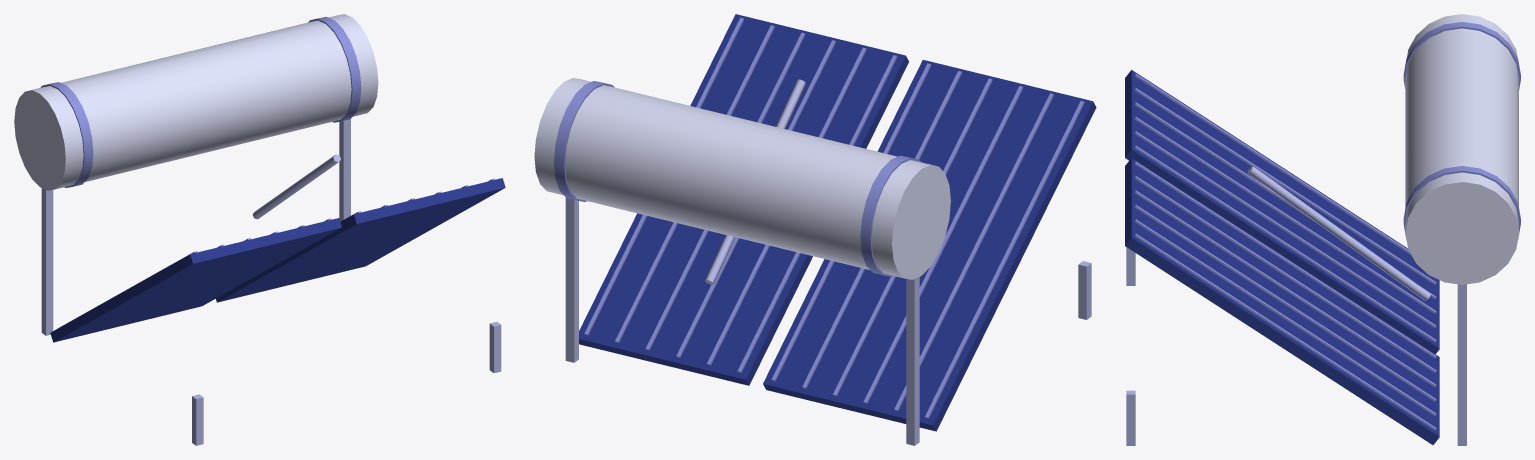
The model's file is solarHeater.glb.
3 renders of one model, left to right at view 1: azimuth 30°, elevation 25°; view 2: azimuth 150°, elevation 25°; view 3: azimuth 270°, elevation 25°, orthographic. The views are drawn at different scales.
Parts seen in each view (by area): view 1: tank, solarHeater; view 2: solarHeater, tank; view 3: solarHeater, tank.
Part boxes in pixels (x1=…): tank: x1=14, y1=14, x2=378, y2=190; solarHeater: x1=40, y1=16, x2=505, y2=445; solarHeater: x1=554, y1=14, x2=1096, y2=445; tank: x1=534, y1=78, x2=950, y2=279; solarHeater: x1=1125, y1=22, x2=1520, y2=445; tank: x1=1405, y1=14, x2=1518, y2=284.
Size of the model in its own units: 2.1 by 1.56 by 2.09.
